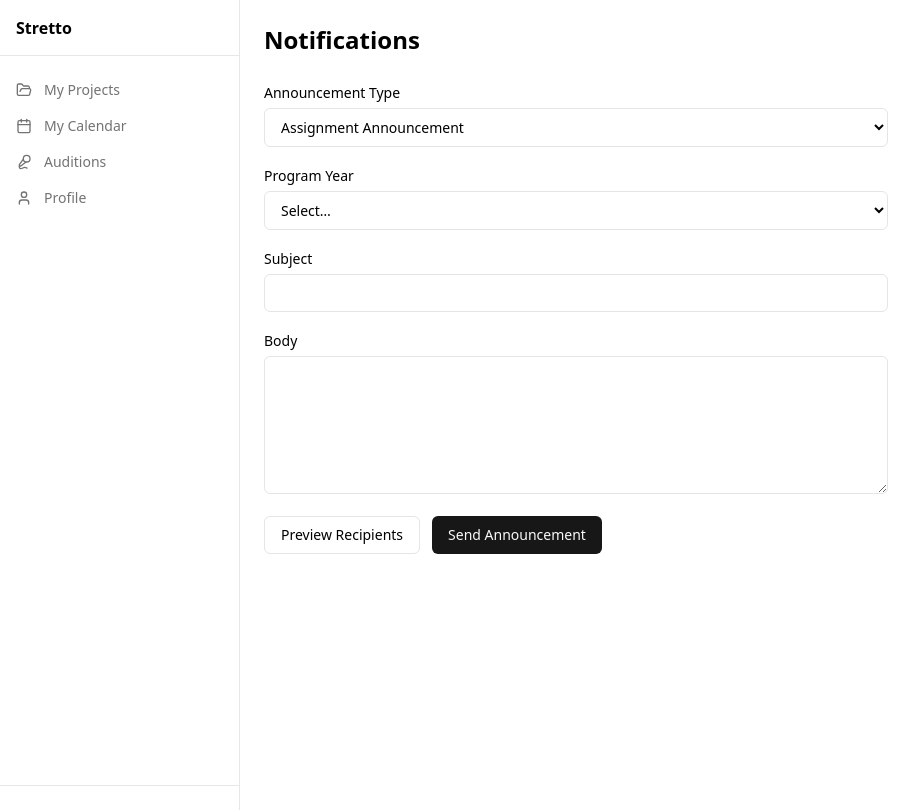
Test: label for target-select shows "Audition Date" when type changes to audition
Select "Audition Announcement" in the dropdown with test id "type-select": (576,128) [264, 108, 888, 147]
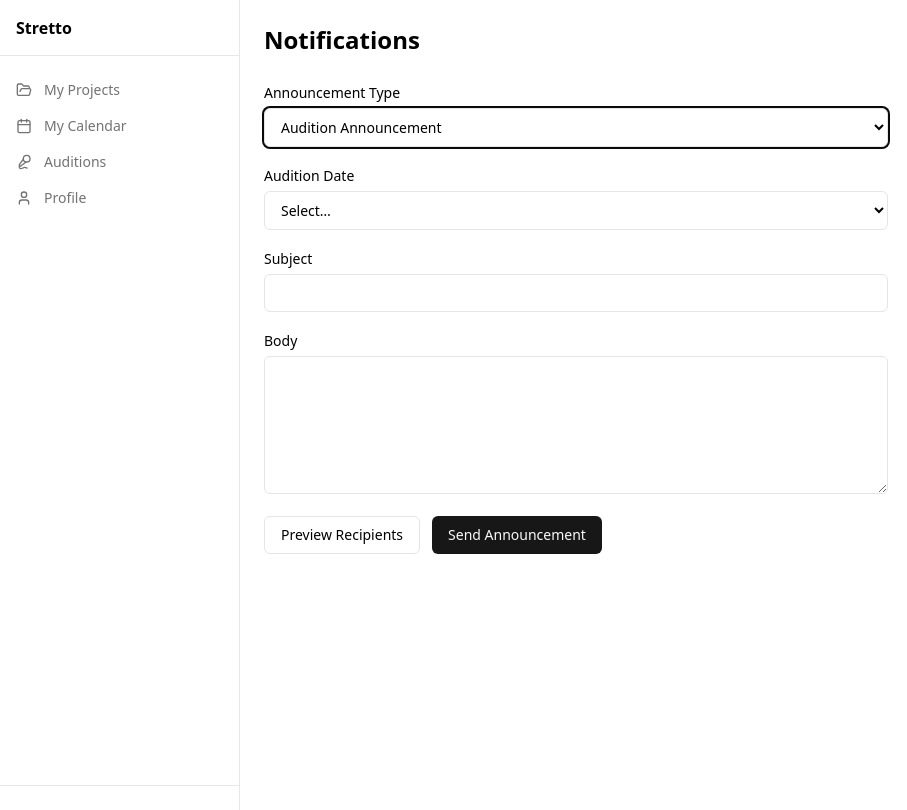
Expected: the text "Audition Date" is shown, [264, 166, 354, 185]
